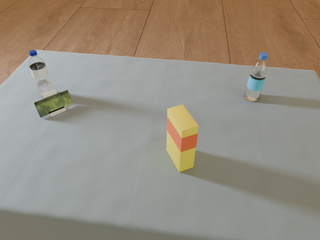bottle: (29, 50, 54, 97), (245, 53, 267, 101)
box: (167, 105, 198, 172)
phone: (34, 90, 73, 117)
